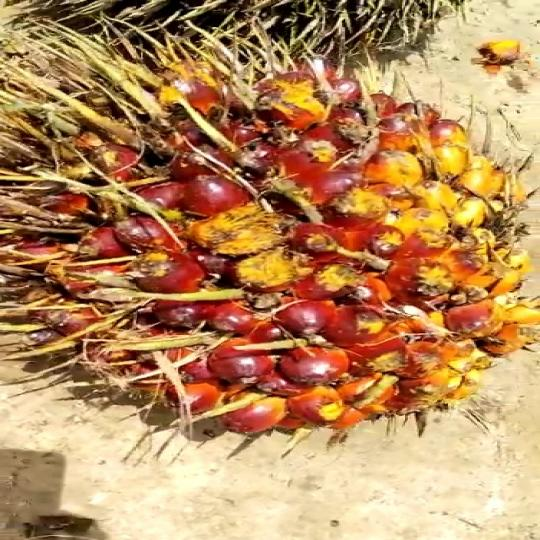masak: (7, 41, 540, 475)
